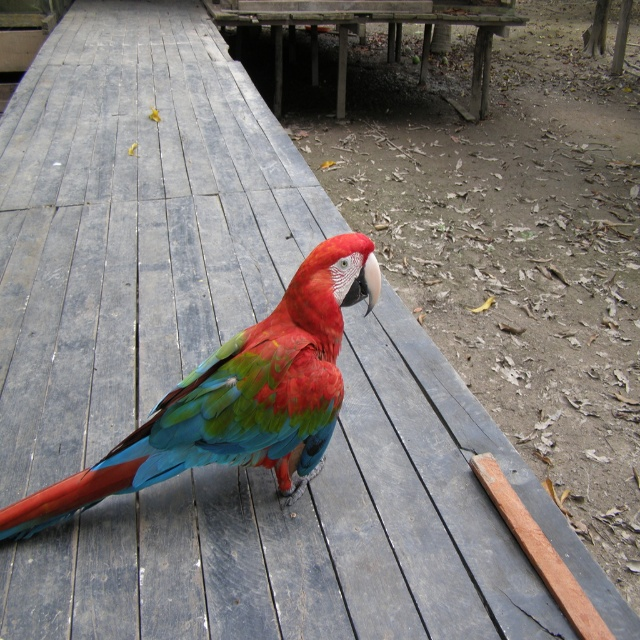Parrot: (0, 229, 380, 547)
